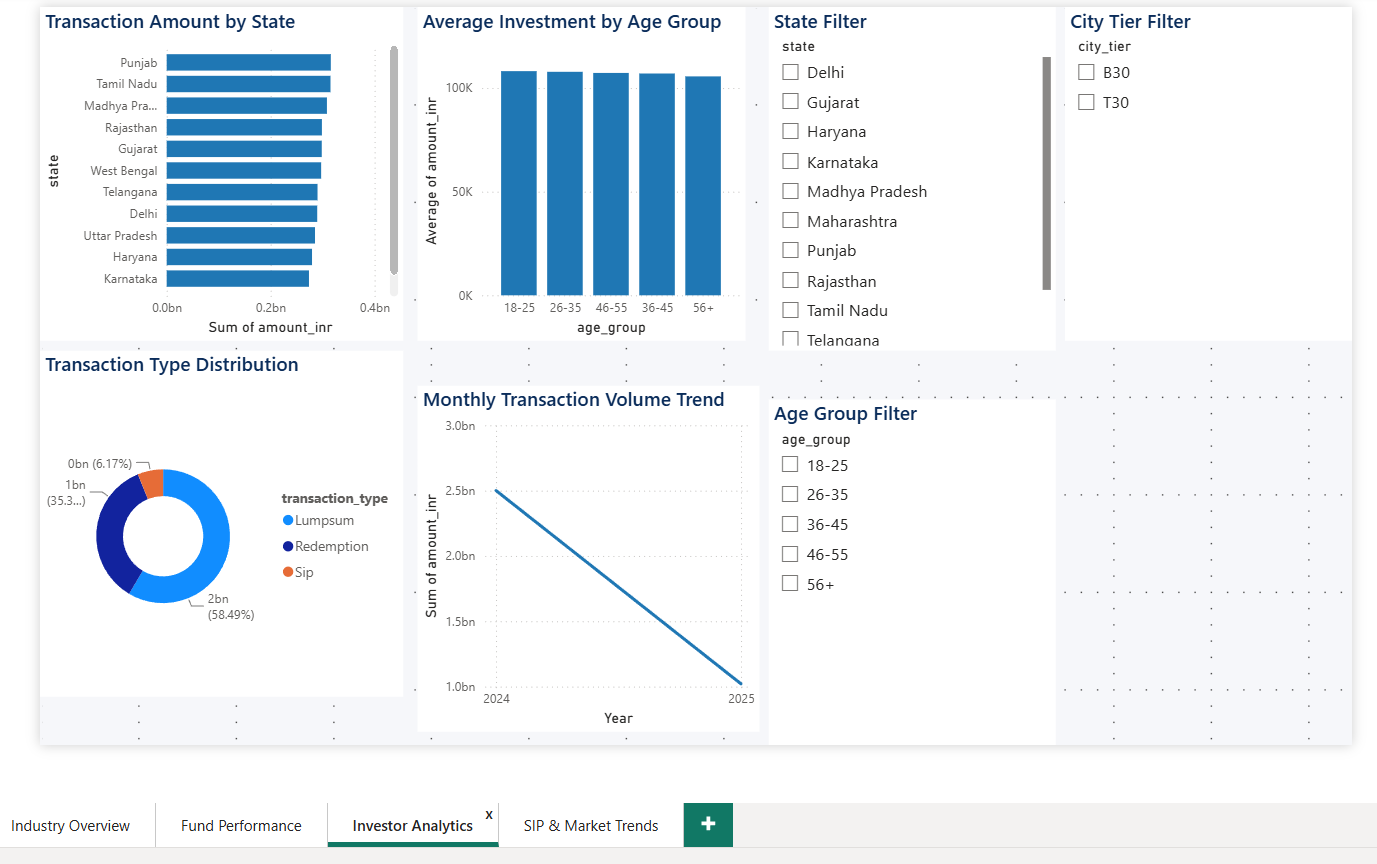

Layout of this report page (visuals, bound fields, positions):
{"tool":"powerbi","page":{"name":"Investor Analytics","canvas":[1280,720],"ordinal":2},"visuals":[{"type":"clusteredBarChart","title":"Transaction Amount by State","fields":{"Category":["clean_transactions.state"],"Y":["Sum(clean_transactions.amount_inr)"]},"box":[0,0,354.6,325.3],"z":0},{"type":"donutChart","title":"Transaction Type Distribution","fields":{"Category":["clean_transactions.transaction_type"],"Y":["Sum(clean_transactions.amount_inr)"]},"box":[0,335.1,354.6,337.5],"z":1000},{"type":"clusteredColumnChart","title":"Average Investment by Age Group","fields":{"Category":["clean_transactions.age_group"],"Y":["Avg(clean_transactions.amount_inr)"]},"box":[368.1,0,320.4,325.3],"z":2000},{"type":"lineChart","title":"Monthly Transaction Volume Trend","fields":{"Category":["clean_transactions.transaction_date.Variation.Date Hierarchy.Year","clean_transactions.transaction_date.Variation.Date Hierarchy.Quarter","clean_transactions.transaction_date.Variation.Date Hierarchy.Month","clean_transactions.transaction_date.Variation.Date Hierarchy.Day"],"Y":["Sum(clean_transactions.amount_inr)"]},"box":[368.1,369.3,333.8,337.5],"z":3000},{"type":"slicer","title":"State Filter","fields":{"Values":["clean_transactions.state"]},"box":[710.5,0,280,335.1],"z":4000},{"type":"slicer","title":"Age Group Filter","fields":{"Values":["clean_transactions.age_group"]},"box":[710.5,382.7,280,337.5],"z":5000},{"type":"slicer","title":"City Tier Filter","fields":{"Values":["clean_transactions.city_tier"]},"box":[1000.3,0,280,325.3],"z":6000}]}

Visuals, with their boxes on the page's 1280x720 design canvas (x1, y1, x2, y2). These are canvas units, not pixel positions in the 1377x864 screenshot, which may show the page scaled, cropped or inside an application window:
"Transaction Amount by State" clusteredBarChart: <box>0,0,355,325</box>
"Transaction Type Distribution" donutChart: <box>0,335,355,673</box>
"Average Investment by Age Group" clusteredColumnChart: <box>368,0,688,325</box>
"Monthly Transaction Volume Trend" lineChart: <box>368,369,702,707</box>
"State Filter" slicer: <box>710,0,990,335</box>
"Age Group Filter" slicer: <box>710,383,990,720</box>
"City Tier Filter" slicer: <box>1000,0,1280,325</box>
